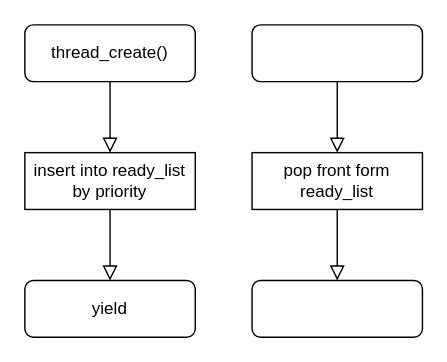
Image size: 447x362. Some labels were removed from this diagram. Each missing label, with the centre of its shape:
schedule(): the point at 336,52
switch: the point at 336,308
